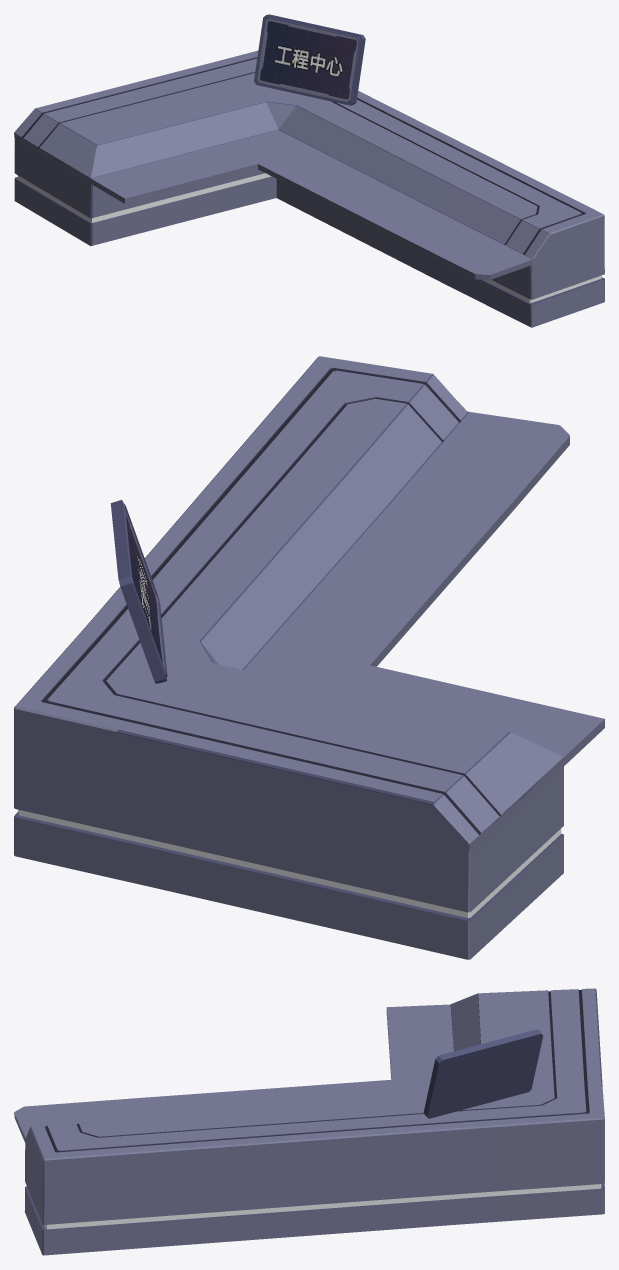
File: EngineeringCabinet.fbx
3 renders of one model, top to bottom at view 1: azimuth 30°, elevation 25°; view 2: azimuth 150°, elevation 25°; view 3: azimuth 270°, elevation 25°, orthographic. The views are drawn at different scales.
Visible parts, largest first — view 1: polySurface196; view 2: polySurface196; view 3: polySurface196.
Boxes of the visible parts, x1,y1,x2,y2 form: polySurface196: (14,14,604,327); polySurface196: (14,356,604,959); polySurface196: (14,988,604,1255).
Bounding box in the file's own units: 2.27 × 0.957 × 3.1.
